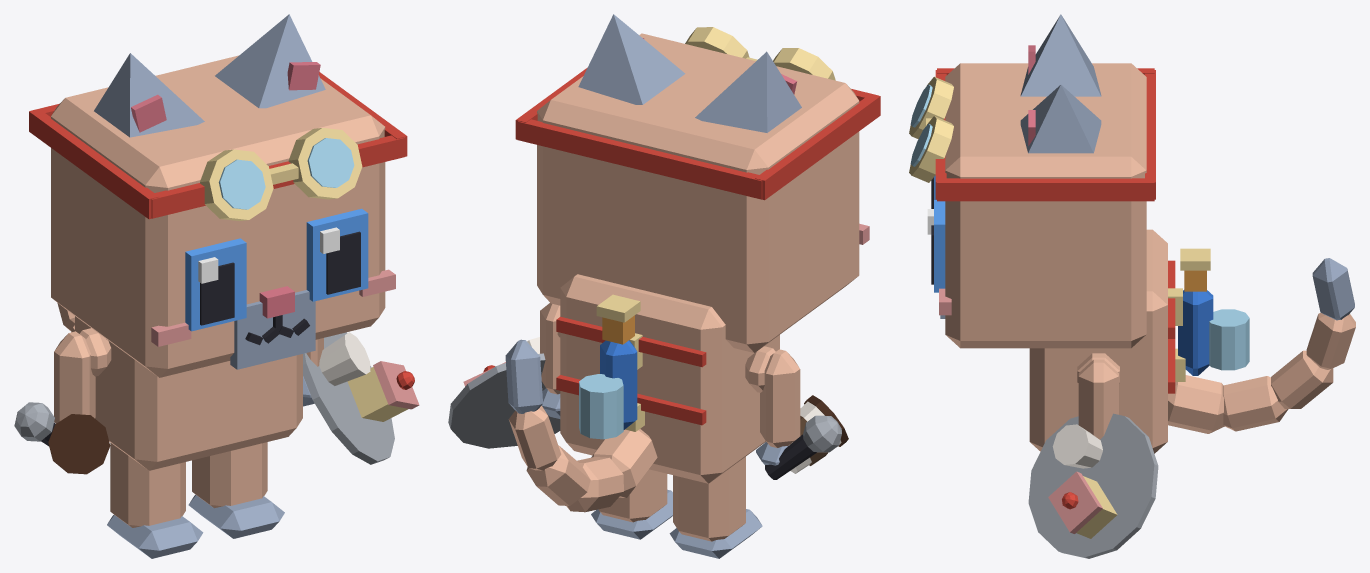
The model's file is CatCafe_Cat_WaterGun_Work.glb.
3 views of the same model, side by side, from view 1: azimuth 30°, elevation 25°; view 2: azimuth 150°, elevation 25°; view 3: azimuth 270°, elevation 25° (orthographic). The views are drawn at different scales.
Parts seen in each view (by area): view 1: CatCafe_Cat_WaterGun_Work_Head, CatCafe_Cat_WaterGun_Work_Body, CatCafe_Cat_WaterGun_Work_Prop2, CatCafe_Cat_WaterGun_Work_Held_Waiter, CatCafe_Cat_WaterGun_Work_LegB2, CatCafe_Cat_WaterGun_Work_LegB1, CatCafe_Cat_WaterGun_Work_EarL, CatCafe_Cat_WaterGun_Work_Eye1, CatCafe_Cat_WaterGun_Work_Eye2, CatCafe_Cat_WaterGun_Work_EarR, CatCafe_Cat_WaterGun_Work_LegF2, CatCafe_Cat_WaterGun_Work_Held_Barista (+1 smaller); view 2: CatCafe_Cat_WaterGun_Work_Head, CatCafe_Cat_WaterGun_Work_Body, CatCafe_Cat_WaterGun_Work_Prop2, CatCafe_Cat_WaterGun_Work_Tail, CatCafe_Cat_WaterGun_Work_Prop, CatCafe_Cat_WaterGun_Work_LegB2, CatCafe_Cat_WaterGun_Work_EarL, CatCafe_Cat_WaterGun_Work_EarR, CatCafe_Cat_WaterGun_Work_Held_Waiter, CatCafe_Cat_WaterGun_Work_LegF2, CatCafe_Cat_WaterGun_Work_LegB1, CatCafe_Cat_WaterGun_Work_Tank_Glow (+3 smaller); view 3: CatCafe_Cat_WaterGun_Work_Head, CatCafe_Cat_WaterGun_Work_Held_Waiter, CatCafe_Cat_WaterGun_Work_Body, CatCafe_Cat_WaterGun_Work_Tail, CatCafe_Cat_WaterGun_Work_Prop2, CatCafe_Cat_WaterGun_Work_Prop, CatCafe_Cat_WaterGun_Work_EarL, CatCafe_Cat_WaterGun_Work_EarR, CatCafe_Cat_WaterGun_Work_LegF1, CatCafe_Cat_WaterGun_Work_Tank_Glow, CatCafe_Cat_WaterGun_Work_Eye1.
Boxes of the visible parts, bbox=[...] form: CatCafe_Cat_WaterGun_Work_Head: bbox=[51, 55, 395, 377]; CatCafe_Cat_WaterGun_Work_Body: bbox=[75, 316, 302, 470]; CatCafe_Cat_WaterGun_Work_Prop2: bbox=[29, 72, 407, 221]; CatCafe_Cat_WaterGun_Work_Held_Waiter: bbox=[303, 332, 419, 464]; CatCafe_Cat_WaterGun_Work_LegB2: bbox=[107, 443, 203, 558]; CatCafe_Cat_WaterGun_Work_LegB1: bbox=[188, 442, 284, 538]; CatCafe_Cat_WaterGun_Work_EarL: bbox=[215, 14, 325, 108]; CatCafe_Cat_WaterGun_Work_Eye1: bbox=[306, 208, 368, 301]; CatCafe_Cat_WaterGun_Work_Eye2: bbox=[185, 238, 246, 331]; CatCafe_Cat_WaterGun_Work_EarR: bbox=[94, 53, 204, 137]; CatCafe_Cat_WaterGun_Work_LegF2: bbox=[54, 331, 95, 423]; CatCafe_Cat_WaterGun_Work_Held_Barista: bbox=[48, 414, 110, 474]; CatCafe_Cat_WaterGun_Work_Head: bbox=[537, 33, 869, 352]; CatCafe_Cat_WaterGun_Work_Body: bbox=[557, 274, 779, 483]; CatCafe_Cat_WaterGun_Work_Prop2: bbox=[515, 27, 880, 200]; CatCafe_Cat_WaterGun_Work_Tail: bbox=[505, 339, 657, 512]; CatCafe_Cat_WaterGun_Work_Prop: bbox=[556, 294, 706, 431]; CatCafe_Cat_WaterGun_Work_LegB2: bbox=[669, 456, 762, 558]; CatCafe_Cat_WaterGun_Work_EarL: bbox=[578, 14, 685, 104]; CatCafe_Cat_WaterGun_Work_EarR: bbox=[695, 51, 801, 132]; CatCafe_Cat_WaterGun_Work_Held_Waiter: bbox=[448, 337, 560, 448]; CatCafe_Cat_WaterGun_Work_LegF2: bbox=[756, 349, 800, 465]; CatCafe_Cat_WaterGun_Work_LegB1: bbox=[591, 469, 672, 539]; CatCafe_Cat_WaterGun_Work_Tank_Glow: bbox=[579, 374, 623, 439]; CatCafe_Cat_WaterGun_Work_Head: bbox=[939, 63, 1146, 348]; CatCafe_Cat_WaterGun_Work_Held_Waiter: bbox=[1028, 413, 1158, 558]; CatCafe_Cat_WaterGun_Work_Body: bbox=[1029, 229, 1167, 453]; CatCafe_Cat_WaterGun_Work_Tail: bbox=[1168, 258, 1355, 433]; CatCafe_Cat_WaterGun_Work_Prop2: bbox=[909, 68, 1155, 201]; CatCafe_Cat_WaterGun_Work_Prop: bbox=[1168, 248, 1213, 393]; CatCafe_Cat_WaterGun_Work_EarL: bbox=[1020, 85, 1101, 153]; CatCafe_Cat_WaterGun_Work_EarR: bbox=[1020, 14, 1101, 96]; CatCafe_Cat_WaterGun_Work_LegF1: bbox=[1078, 359, 1118, 439]; CatCafe_Cat_WaterGun_Work_Tank_Glow: bbox=[1209, 309, 1249, 370]; CatCafe_Cat_WaterGun_Work_Eye1: bbox=[927, 200, 945, 292].
Size of the model in its own units: 1.53 by 1.93 by 1.69.
1 material, 1 textured.
